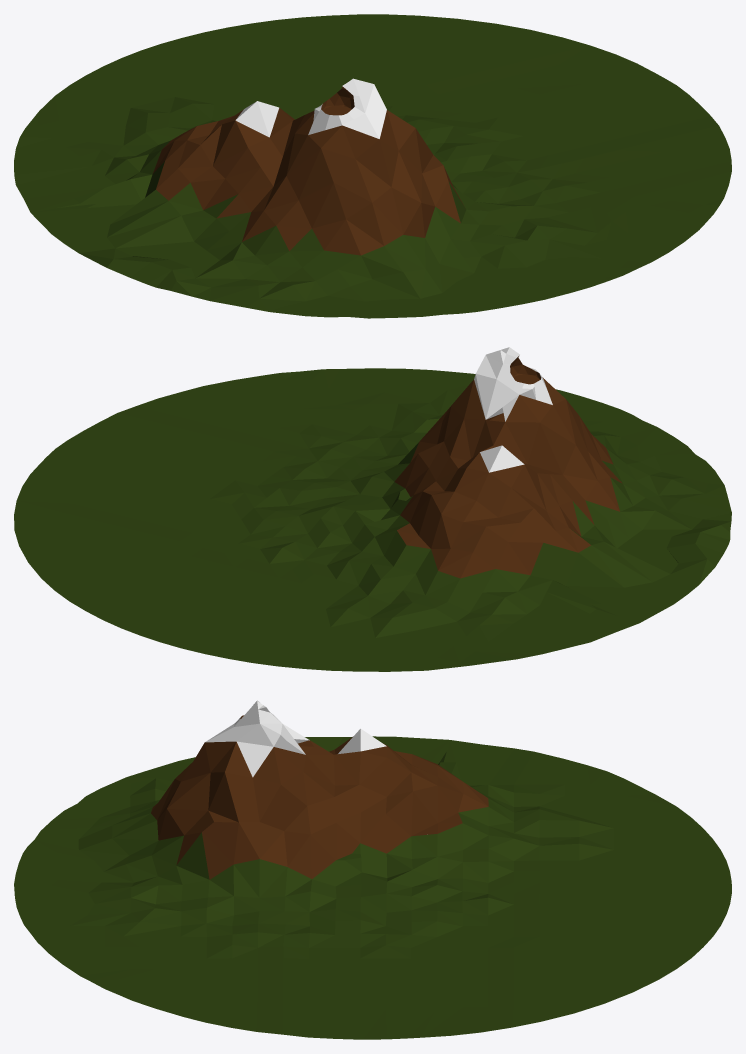
The model's file is Mountain9b.glb.
The picture shows the model from 3 angles, top to bottom: view 1: azimuth 30°, elevation 25°; view 2: azimuth 150°, elevation 25°; view 3: azimuth 270°, elevation 25°; orthographic projection.
Visible parts, largest first — view 1: Mountain.005, Mountain.001, Mountain; view 2: Mountain.005, Mountain.001, Mountain; view 3: Mountain.005, Mountain.001, Mountain.
Part boxes in pixels (left/top/right/bottom): Mountain.005: left=14, top=14, right=731, bottom=318; Mountain.001: left=153, top=78, right=463, bottom=255; Mountain: left=235, top=101, right=278, bottom=137; Mountain.005: left=14, top=368, right=731, bottom=671; Mountain.001: left=394, top=347, right=622, bottom=578; Mountain: left=480, top=445, right=524, bottom=472; Mountain.005: left=14, top=736, right=731, bottom=1039; Mountain.001: left=151, top=700, right=488, bottom=879; Mountain: left=338, top=728, right=386, bottom=753.
Bounding box in the file's own units: 107 × 24.57 × 107.
